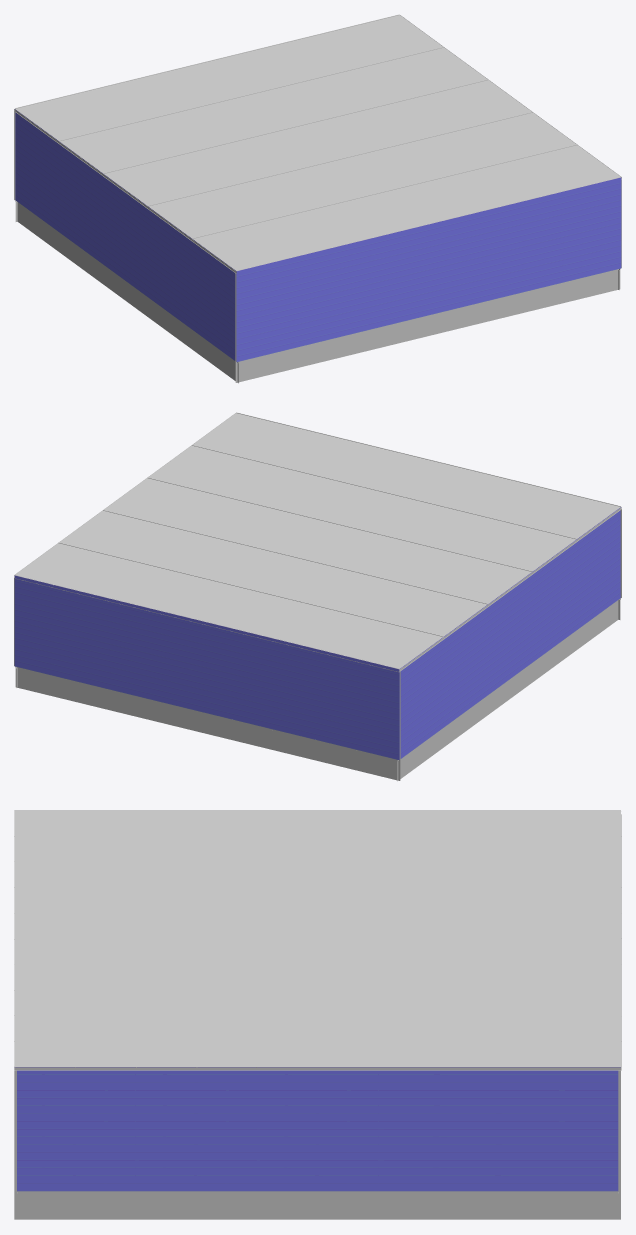
File: SM_Warehouse.FBX
3 renders of one model, top to bottom at view 1: azimuth 30°, elevation 25°; view 2: azimuth 150°, elevation 25°; view 3: azimuth 270°, elevation 25°, orthographic. The views are drawn at different scales.
Parts seen in each view (by area): view 1: Roof, Walls, LowWalls, Beams, RimWalls; view 2: Roof, Walls, LowWalls, Beams, RimWalls; view 3: Roof, Walls, LowWalls, Beams, RimWalls.
Part boxes in pixels (x1,y1,x2,y2): Roof: [15, 15, 620, 270]; Walls: [15, 109, 621, 361]; LowWalls: [15, 201, 620, 383]; Beams: [14, 14, 621, 361]; RimWalls: [15, 200, 620, 362]; Roof: [15, 413, 620, 668]; Walls: [14, 507, 620, 759]; LowWalls: [15, 599, 620, 781]; Beams: [14, 412, 621, 759]; RimWalls: [15, 598, 620, 760]; Roof: [14, 810, 620, 1066]; Walls: [14, 1067, 620, 1191]; LowWalls: [14, 1192, 620, 1219]; Beams: [14, 810, 621, 1191]; RimWalls: [14, 1191, 620, 1192].
Size of the model in its own units: 5016 by 1405 by 5013.
